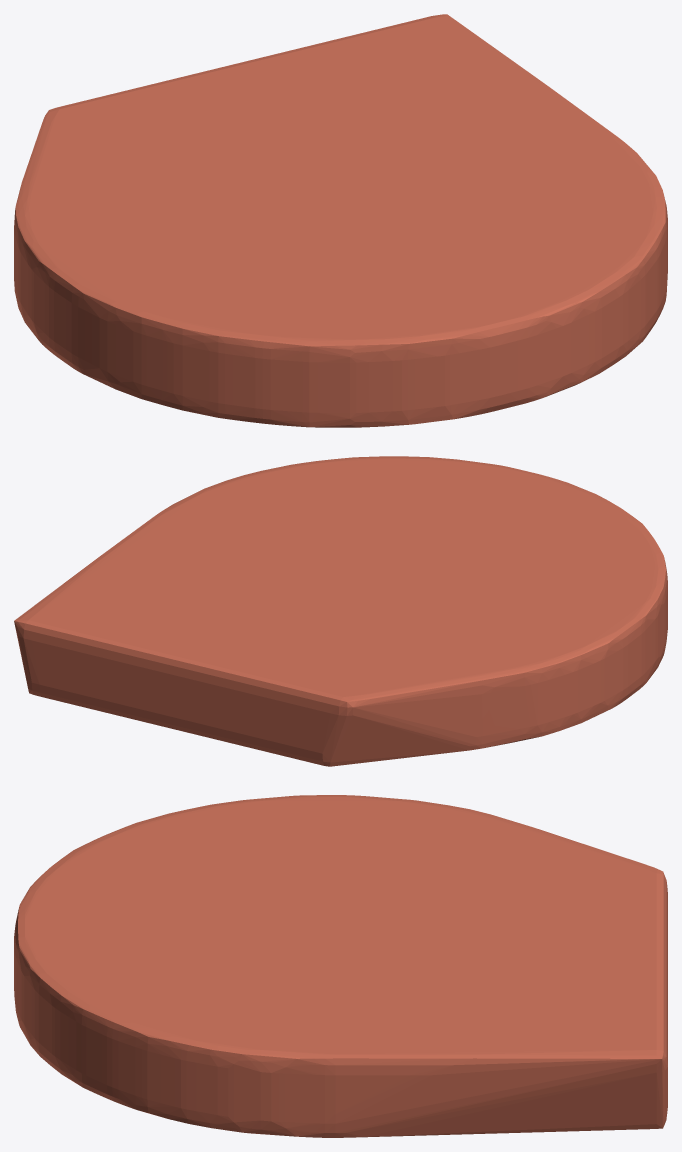
The model's file is left_hip_pitch_link_part_9.obj.
The picture shows the model from 3 angles, top to bottom: view 1: azimuth 30°, elevation 25°; view 2: azimuth 150°, elevation 25°; view 3: azimuth 270°, elevation 25°; orthographic projection. The views are drawn at different scales.
Size of the model in its own units: 0.1242 by 0.0179 by 0.129.
